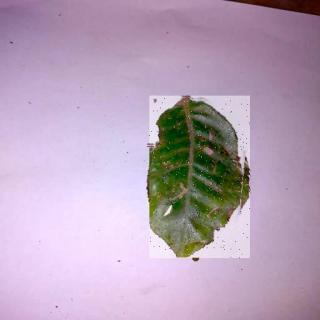Anthracnose: (150, 98, 251, 261)
